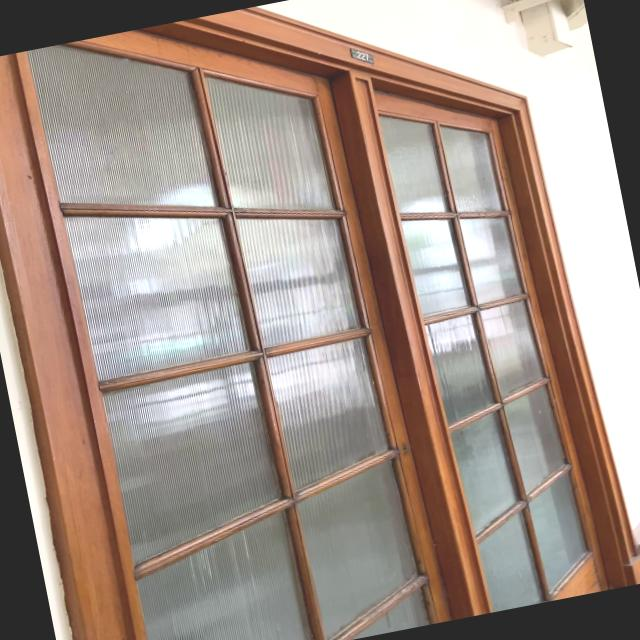room227: (350, 42, 376, 68)
